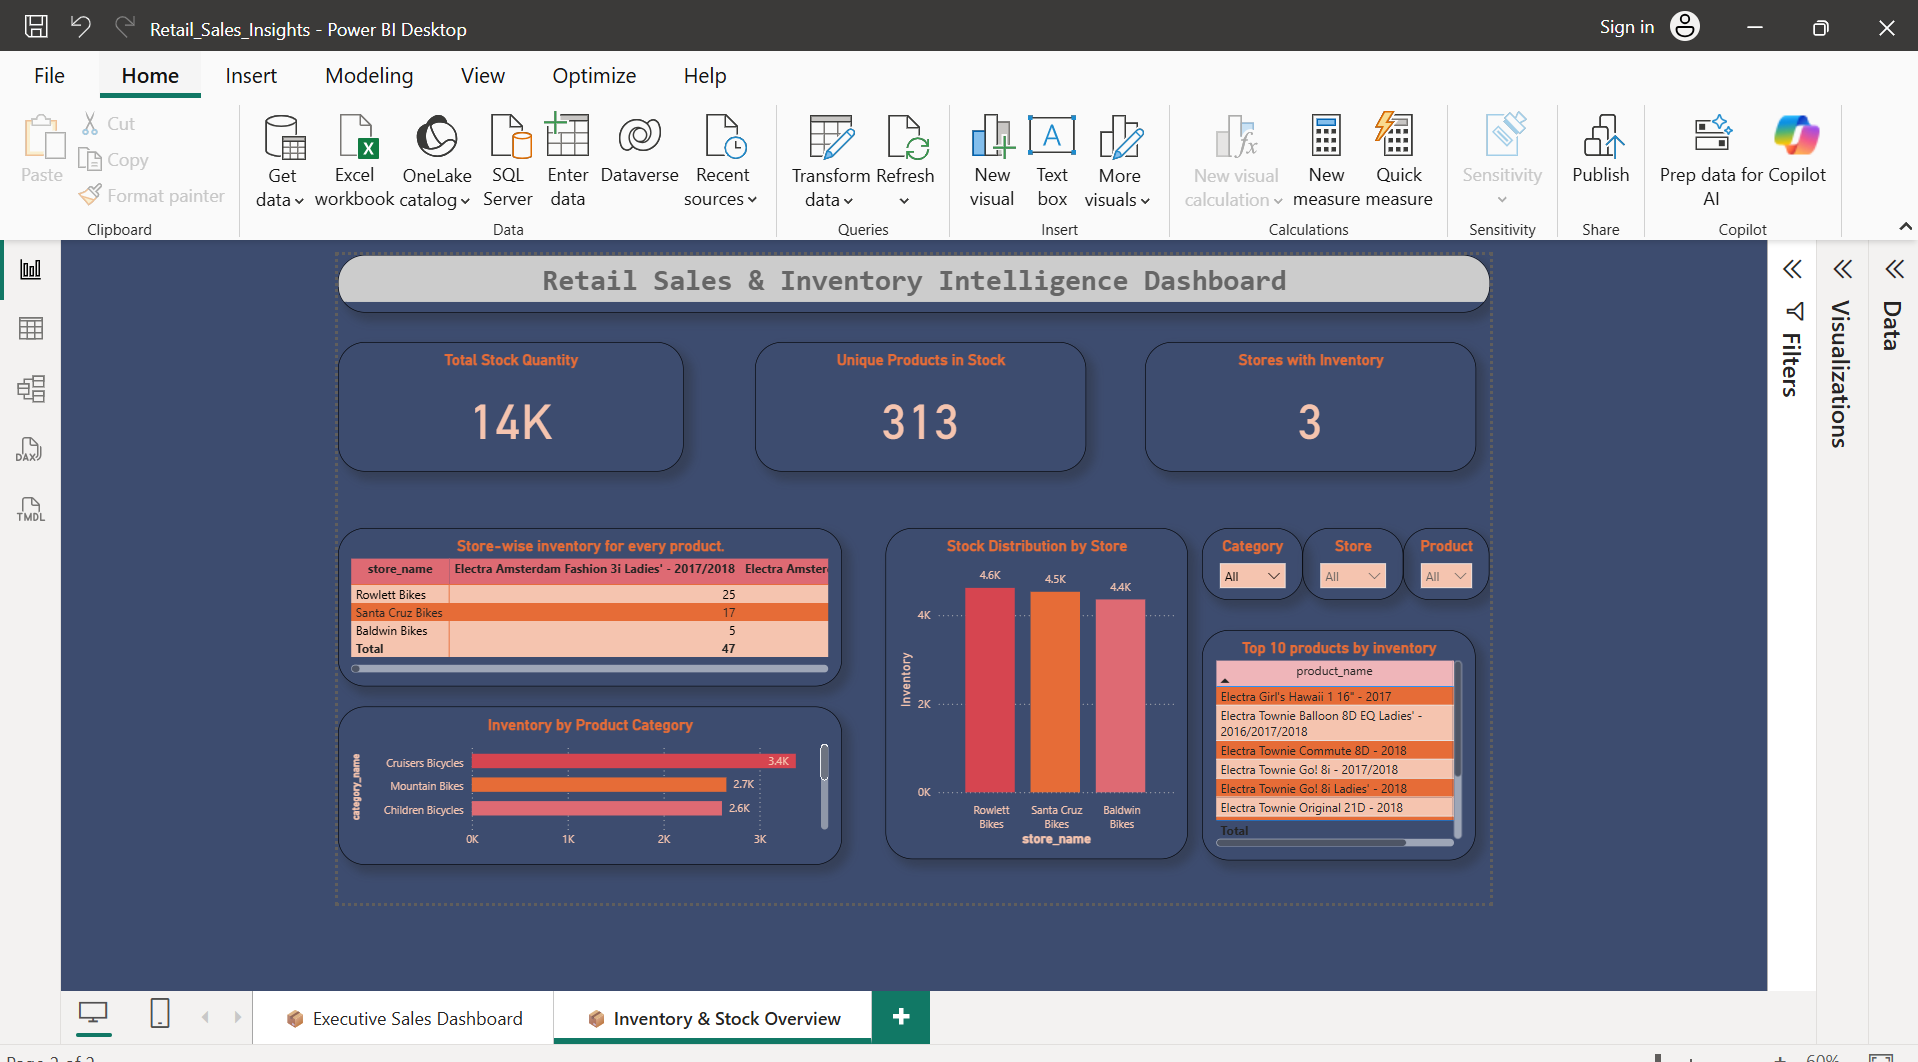

What the dashboard file says about the page in this screenshot:
{"tool":"powerbi","page":{"name":"📦 Inventory & Stock Overview","canvas":[1280,720],"ordinal":1},"visuals":[{"type":"actionButton","title":"Retail Sales & Inventory Intelligence Dashboard","box":[0,0,1280,64],"z":0},{"type":"card","title":"Total Stock Quantity","fields":{"Values":["Date.Inventory"]},"box":[0,96,384,144],"z":1000},{"type":"card","title":"Unique Products in Stock","fields":{"Values":["Date.Distinct Products"]},"box":[464,96,368,144],"z":2000},{"type":"card","title":"Stores with Inventory","fields":{"Values":["Date.Distinct Stores"]},"box":[896,96,368,144],"z":3000},{"type":"pivotTable","title":"Store-wise inventory for every product.","fields":{"Rows":["stores.store_name"],"Columns":["products.product_name"],"Values":["Date.Inventory"]},"box":[0,304,560,176],"z":4000},{"type":"clusteredBarChart","title":"Inventory by Product Category","fields":{"Category":["categories.category_name"],"Y":["Date.Inventory"]},"box":[0,502,560,176],"z":5000},{"type":"clusteredColumnChart","title":"Stock Distribution by Store","fields":{"Category":["stores.store_name"],"Y":["Date.Inventory"]},"box":[608,304,336,368],"z":6000},{"type":"slicer","title":"Category","fields":{"Values":["categories.category_name"]},"box":[960,304,112,80],"z":7000},{"type":"slicer","title":"Store","fields":{"Values":["stores.store_name"]},"box":[1072,304,112,80],"z":7001},{"type":"slicer","title":"Product","fields":{"Values":["products.product_name"]},"box":[1184,304,96,80],"z":7002},{"type":"tableEx","title":"Top 10 products by inventory","fields":{"Values":["products.product_name","Date.Inventory"]},"box":[960,416,304,256],"z":7003}]}

Visuals, with their boxes on the page's 1280x720 design canvas (x1, y1, x2, y2). These are canvas units, not pixel positions in the 1918x1062 screenshot, which may show the page scaled, cropped or inside an application window:
"Retail Sales & Inventory Intelligence Dashboard" actionButton: (0, 0, 1280, 64)
"Total Stock Quantity" card: (0, 96, 384, 240)
"Unique Products in Stock" card: (464, 96, 832, 240)
"Stores with Inventory" card: (896, 96, 1264, 240)
"Store-wise inventory for every product." pivotTable: (0, 304, 560, 480)
"Inventory by Product Category" clusteredBarChart: (0, 502, 560, 678)
"Stock Distribution by Store" clusteredColumnChart: (608, 304, 944, 672)
"Category" slicer: (960, 304, 1072, 384)
"Store" slicer: (1072, 304, 1184, 384)
"Product" slicer: (1184, 304, 1280, 384)
"Top 10 products by inventory" tableEx: (960, 416, 1264, 672)
